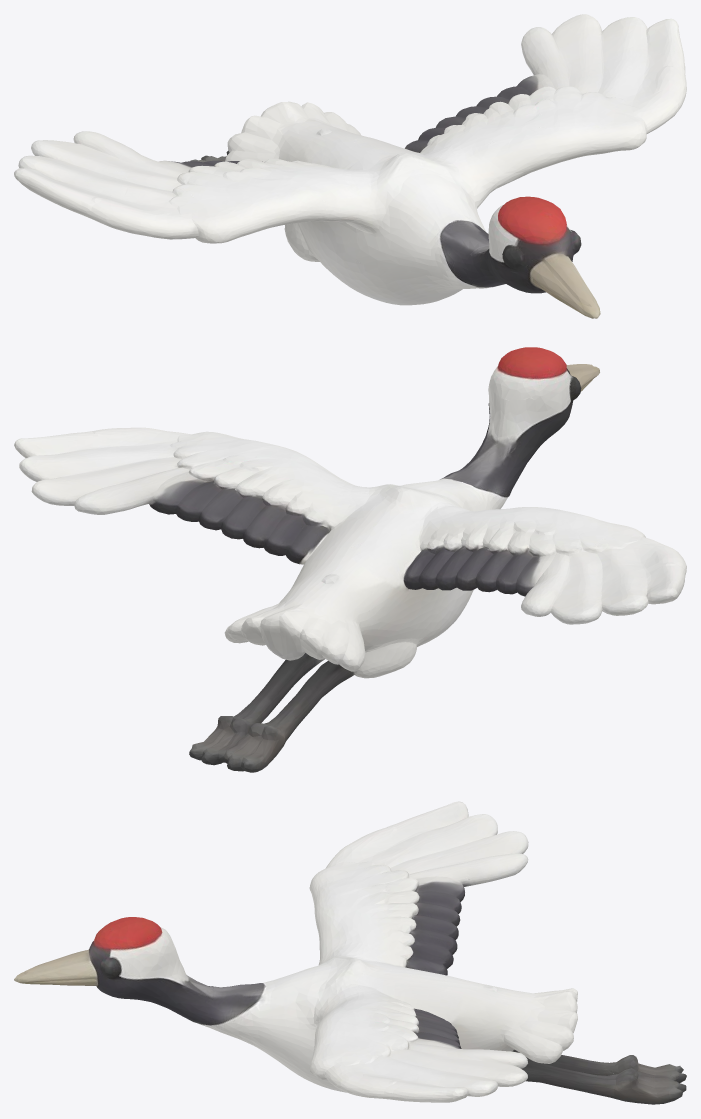
The model's file is hac.glb.
3 views of the same model, one above another, from view 1: azimuth 30°, elevation 25°; view 2: azimuth 150°, elevation 25°; view 3: azimuth 270°, elevation 25° (orthographic). The views are drawn at different scales.
Parts seen in each view (by area): view 1: tripo_node_06df2269-341d-486c-9265-406a1d37189e; view 2: tripo_node_06df2269-341d-486c-9265-406a1d37189e; view 3: tripo_node_06df2269-341d-486c-9265-406a1d37189e.
Boxes of the visible parts, x1,y1,x2,y2 form: tripo_node_06df2269-341d-486c-9265-406a1d37189e: [14, 14, 686, 318]; tripo_node_06df2269-341d-486c-9265-406a1d37189e: [14, 347, 686, 772]; tripo_node_06df2269-341d-486c-9265-406a1d37189e: [14, 801, 686, 1104].
Size of the model in its own units: 0.98 by 0.2784 by 0.9781.
Materials: 1 (1 with a texture image).
